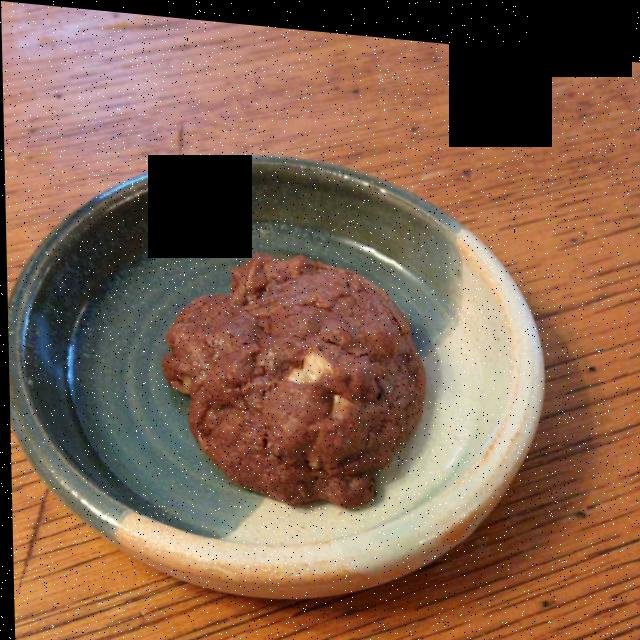chocolate-cookies: (139, 236, 435, 508)
